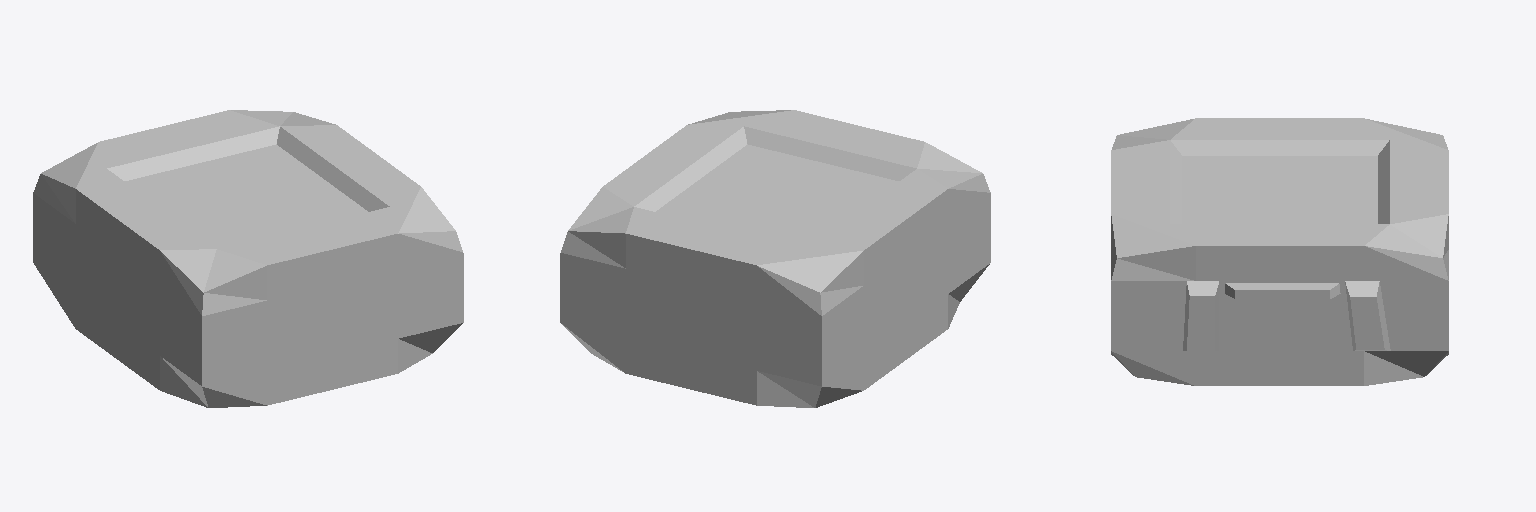
Rendered from ammo.obj.
The picture shows the model from 3 angles: view 1: azimuth 30°, elevation 25°; view 2: azimuth 150°, elevation 25°; view 3: azimuth 270°, elevation 25°; orthographic projection.
Parts seen in each view (by area): view 1: Cube_Cube.002; view 2: Cube_Cube.002; view 3: Cube_Cube.002.
Part boxes in pixels (left/top/right/bottom): Cube_Cube.002: left=33, top=110, right=463, bottom=407; Cube_Cube.002: left=560, top=110, right=990, bottom=407; Cube_Cube.002: left=1111, top=118, right=1448, bottom=385.
Size of the model in its own units: 12.78 by 6.2 by 13.51.